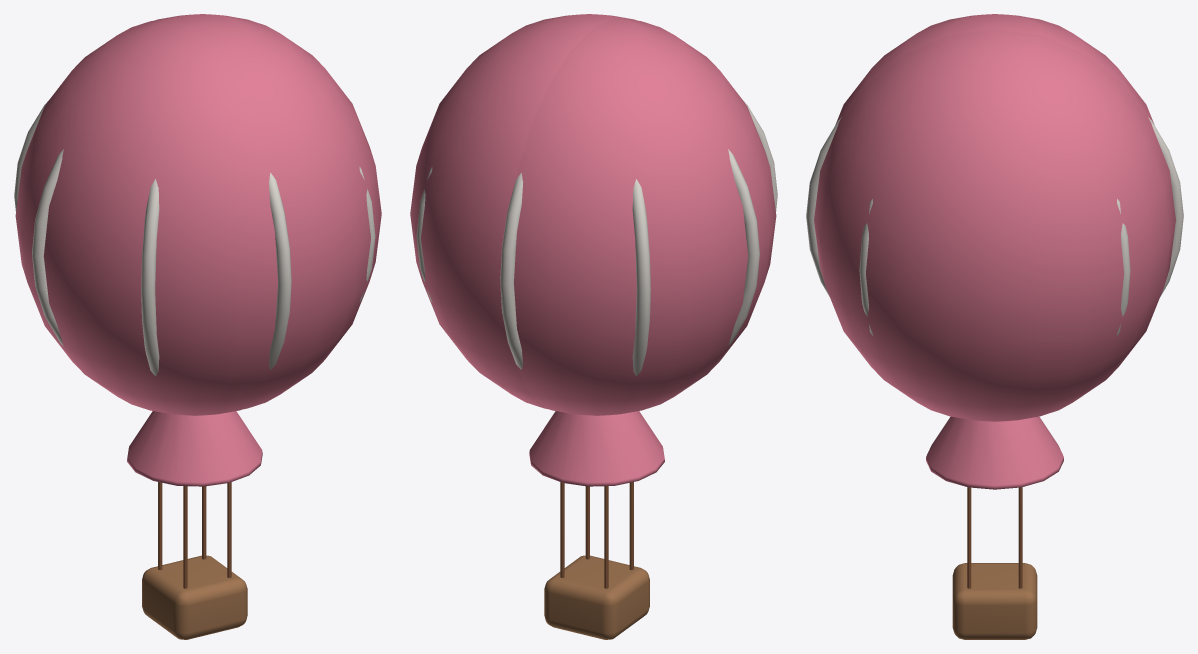
File: balloon_pink.glb
3 views of the same model, side by side, from view 1: azimuth 30°, elevation 25°; view 2: azimuth 150°, elevation 25°; view 3: azimuth 270°, elevation 25° (orthographic).
Visible parts, largest first — view 1: Sphere; view 2: Sphere; view 3: Sphere.
Boxes of the visible parts, box(x1,y1,x2,y2) form: Sphere: box(14, 14, 381, 639); Sphere: box(410, 14, 777, 639); Sphere: box(806, 14, 1183, 639).
Bounding box in the file's own units: 0.628 × 1.1 × 0.626.
